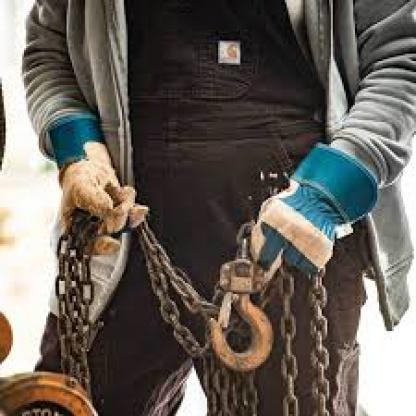glove: (251, 140, 379, 278), (44, 113, 150, 255)
